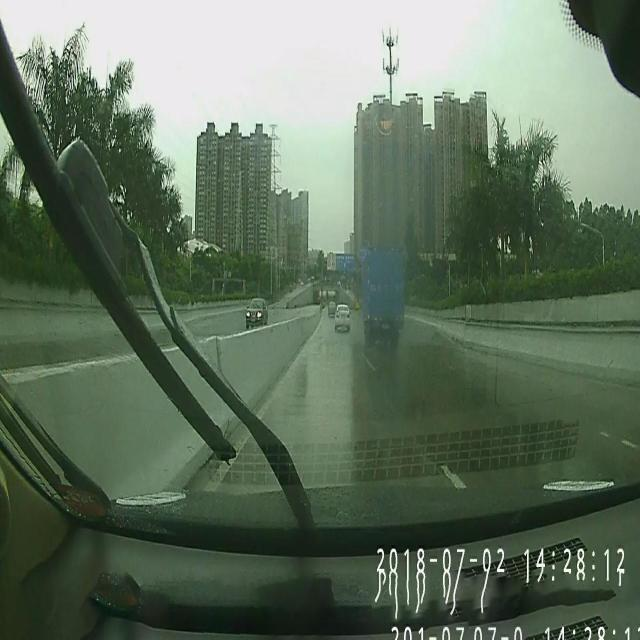car: (244, 296, 268, 330), (334, 302, 351, 330), (327, 299, 337, 317)
